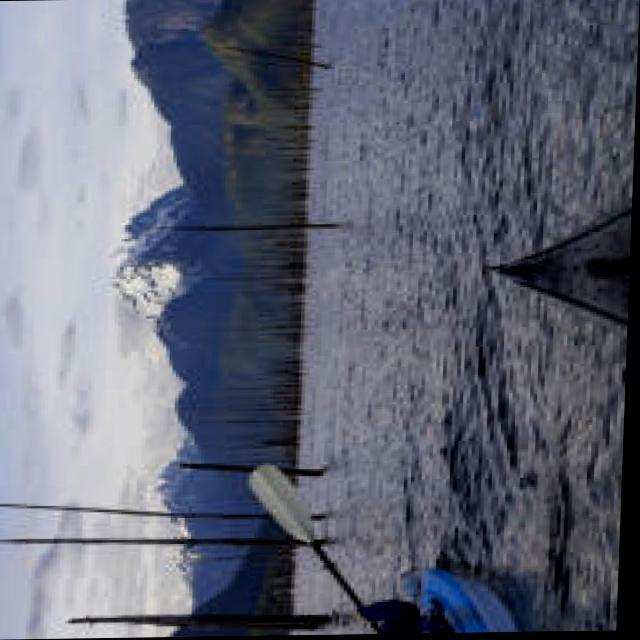kayak: (257, 467, 362, 605), (408, 569, 527, 635), (425, 569, 527, 634)
